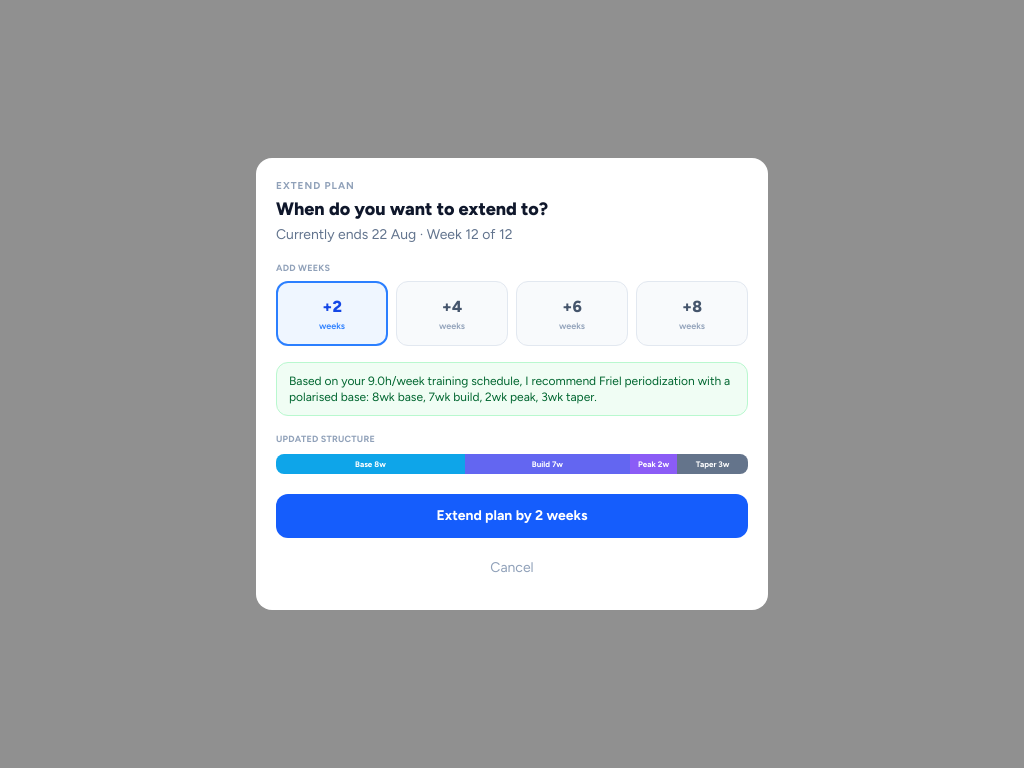
Test: ExtendPlanModal — no events › CTA label updates when +4 chip is selected
The image size is (1024, 768).
Click the text "+4".
click(452, 306)  # box x1=442 y1=297 x2=462 y2=316
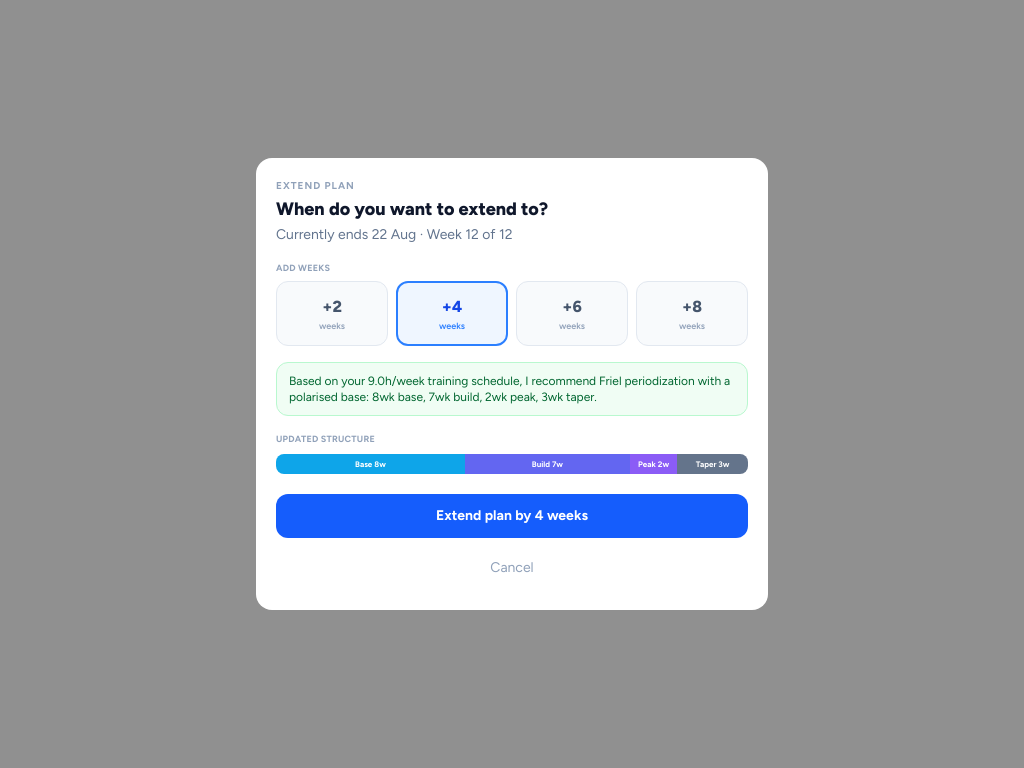
Expected: the button "Extend plan by 4 weeks" is shown, x1=276 y1=494 x2=748 y2=538
